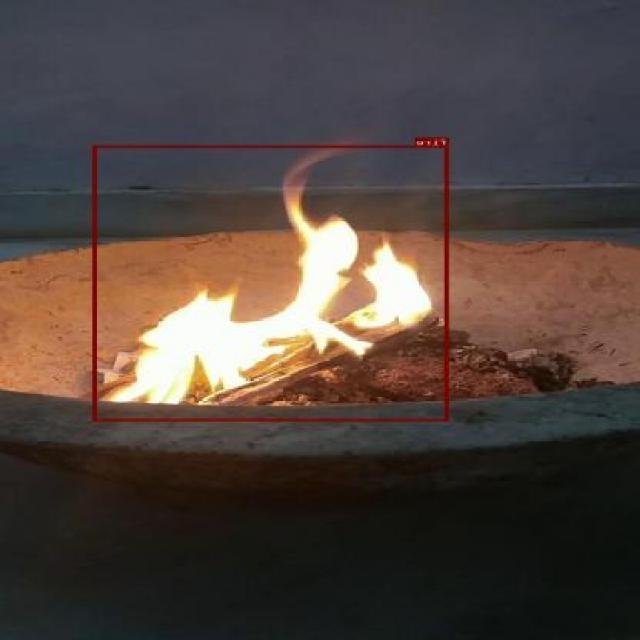fire: (94, 145, 450, 421)
